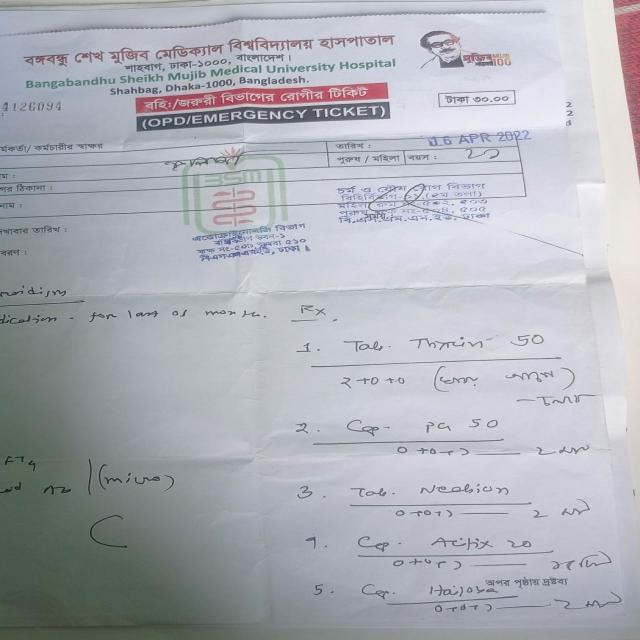Acifix: (421, 532, 504, 557)
Hailoba: (422, 581, 503, 600)
Neobion: (416, 480, 517, 501)
PG: (415, 414, 462, 436)
Thyrin: (409, 333, 490, 355)
